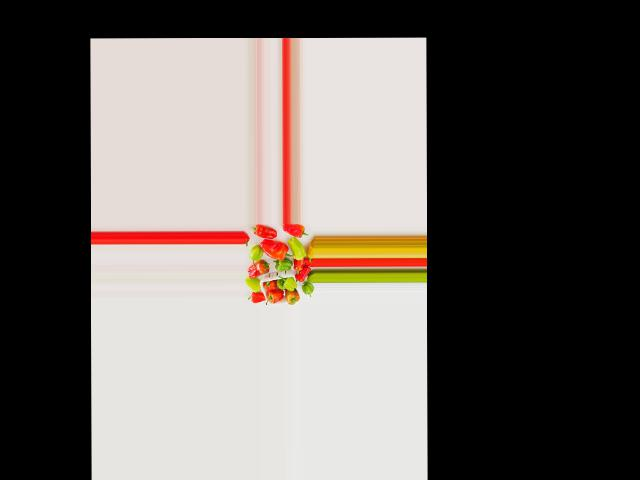bell_pepper: (285, 223, 309, 239)
